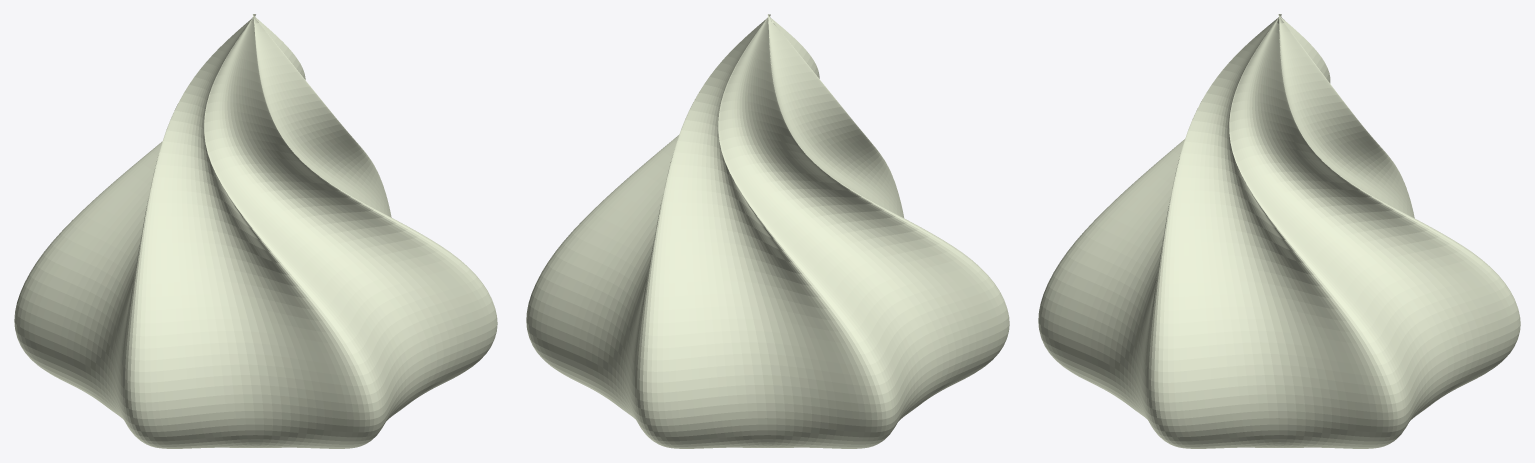
Rendered from Cream.gltf.
3 views of the same model, side by side, from view 1: azimuth 30°, elevation 25°; view 2: azimuth 150°, elevation 25°; view 3: azimuth 270°, elevation 25° (orthographic).
Visible parts, largest first — view 1: 円; view 2: 円; view 3: 円.
Part boxes in pixels (bbox=[...]): 円: bbox=[14, 14, 497, 448]; 円: bbox=[526, 14, 1009, 448]; 円: bbox=[1038, 14, 1520, 448].
Size of the model in its own units: 1.34 by 1.36 by 1.52.
Materials: 1 (1 with a texture image).
